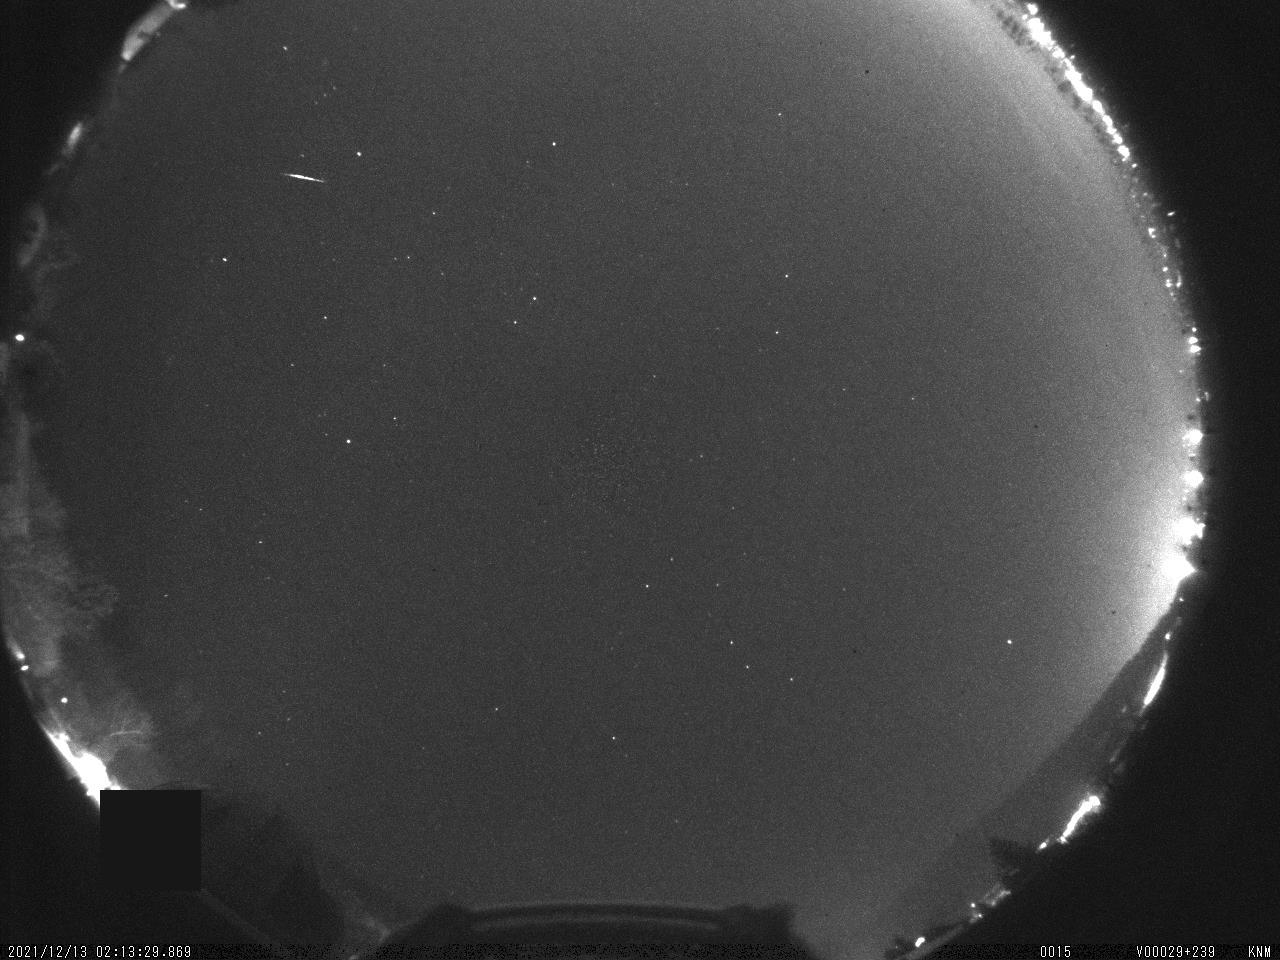meteor: (267, 161, 334, 198)
